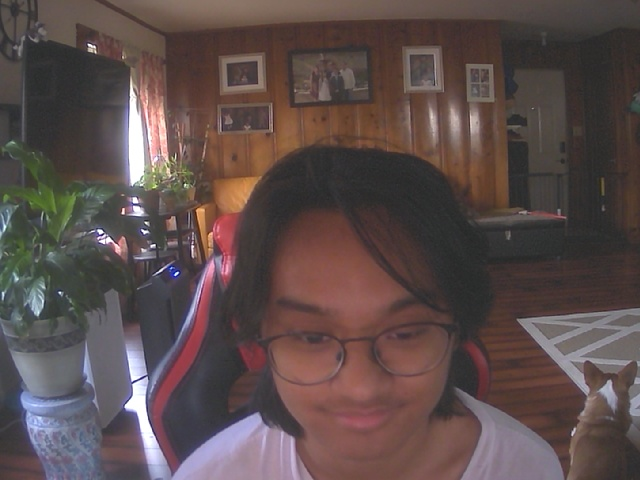happy: (241, 168, 472, 462)
